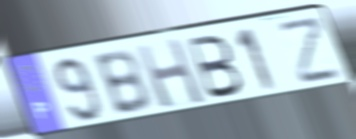1: (234, 25, 279, 93)
9: (50, 55, 106, 125)
B: (90, 47, 154, 118), (185, 33, 246, 102)
H: (133, 35, 209, 111)
Z: (276, 13, 345, 87)
